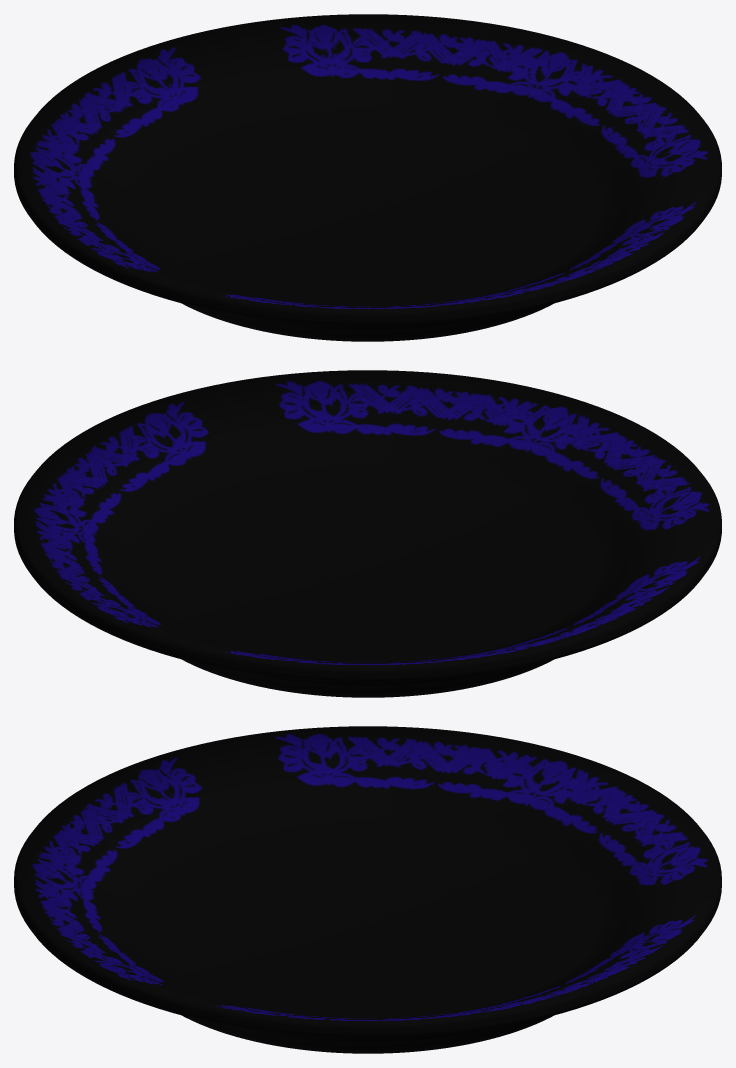
The model's file is Tarelka.dae.
3 views of the same model, one above another, from view 1: azimuth 30°, elevation 25°; view 2: azimuth 150°, elevation 25°; view 3: azimuth 270°, elevation 25° (orthographic).
Parts seen in each view (by area): view 1: Tarelka; view 2: Tarelka; view 3: Tarelka.
Part boxes in pixels (box(x1,y1,x2,y2)): Tarelka: box(14, 14, 721, 341); Tarelka: box(14, 370, 721, 697); Tarelka: box(14, 726, 721, 1053).
Bounding box in the file's own units: 0.202 × 0.202 × 0.025.
